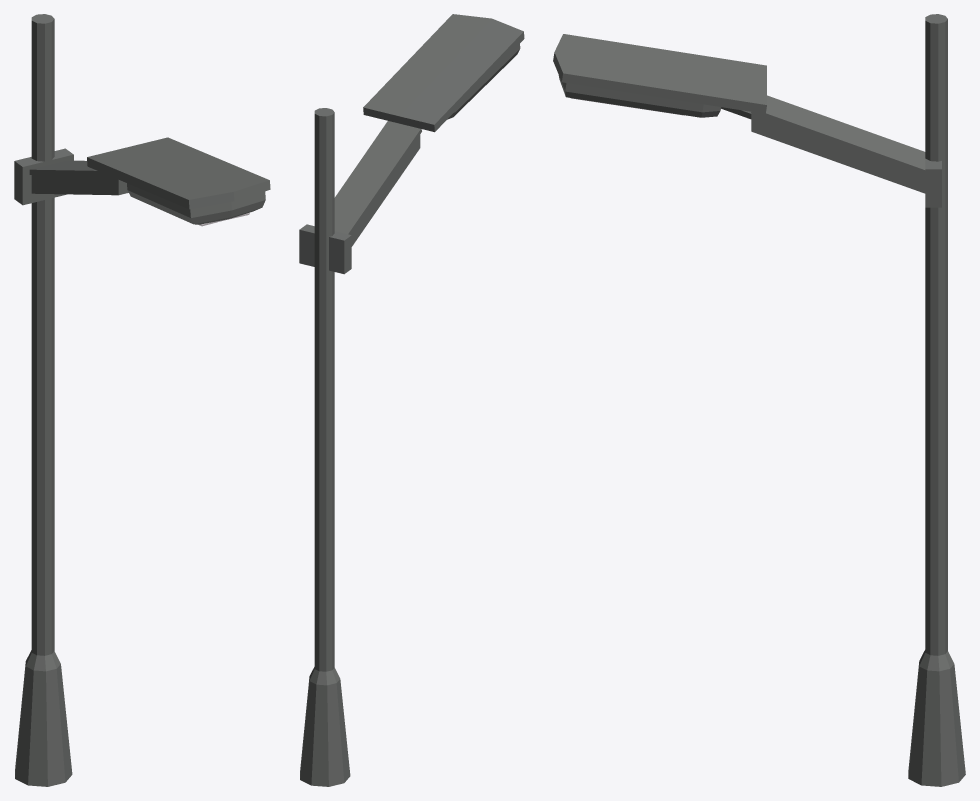
The model's file is light.glb.
The picture shows the model from 3 angles, left to right: view 1: azimuth 30°, elevation 25°; view 2: azimuth 150°, elevation 25°; view 3: azimuth 270°, elevation 25°; orthographic projection. The views are drawn at different scales.
Visible parts, largest first — view 1: Object_1845; view 2: Object_1845; view 3: Object_1845.
Part boxes in pixels (<box>): Object_1845: <box>14,14,270,786</box>; Object_1845: <box>299,14,524,786</box>; Object_1845: <box>553,14,965,786</box>.
Bounding box in the file's own units: 0.7991 × 7.12 × 3.52.
1 material, 1 textured.
